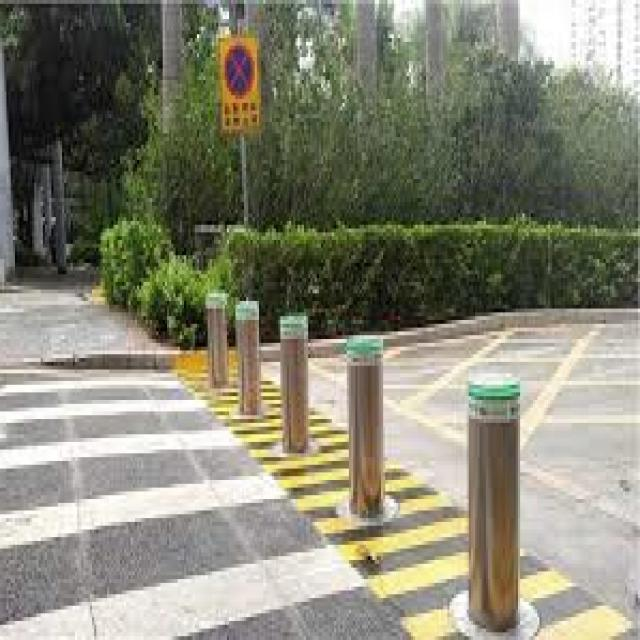bollard: (449, 365, 535, 640), (330, 317, 404, 542), (276, 300, 314, 478), (234, 294, 263, 437), (199, 289, 227, 404)
